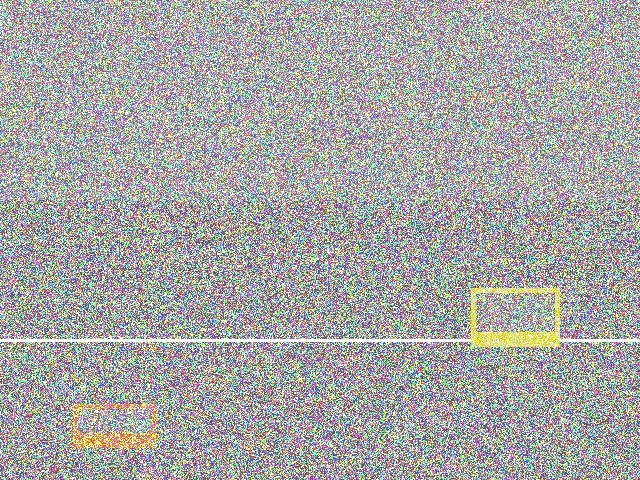bus: (236, 140, 341, 266)
truck: (65, 276, 209, 376)
